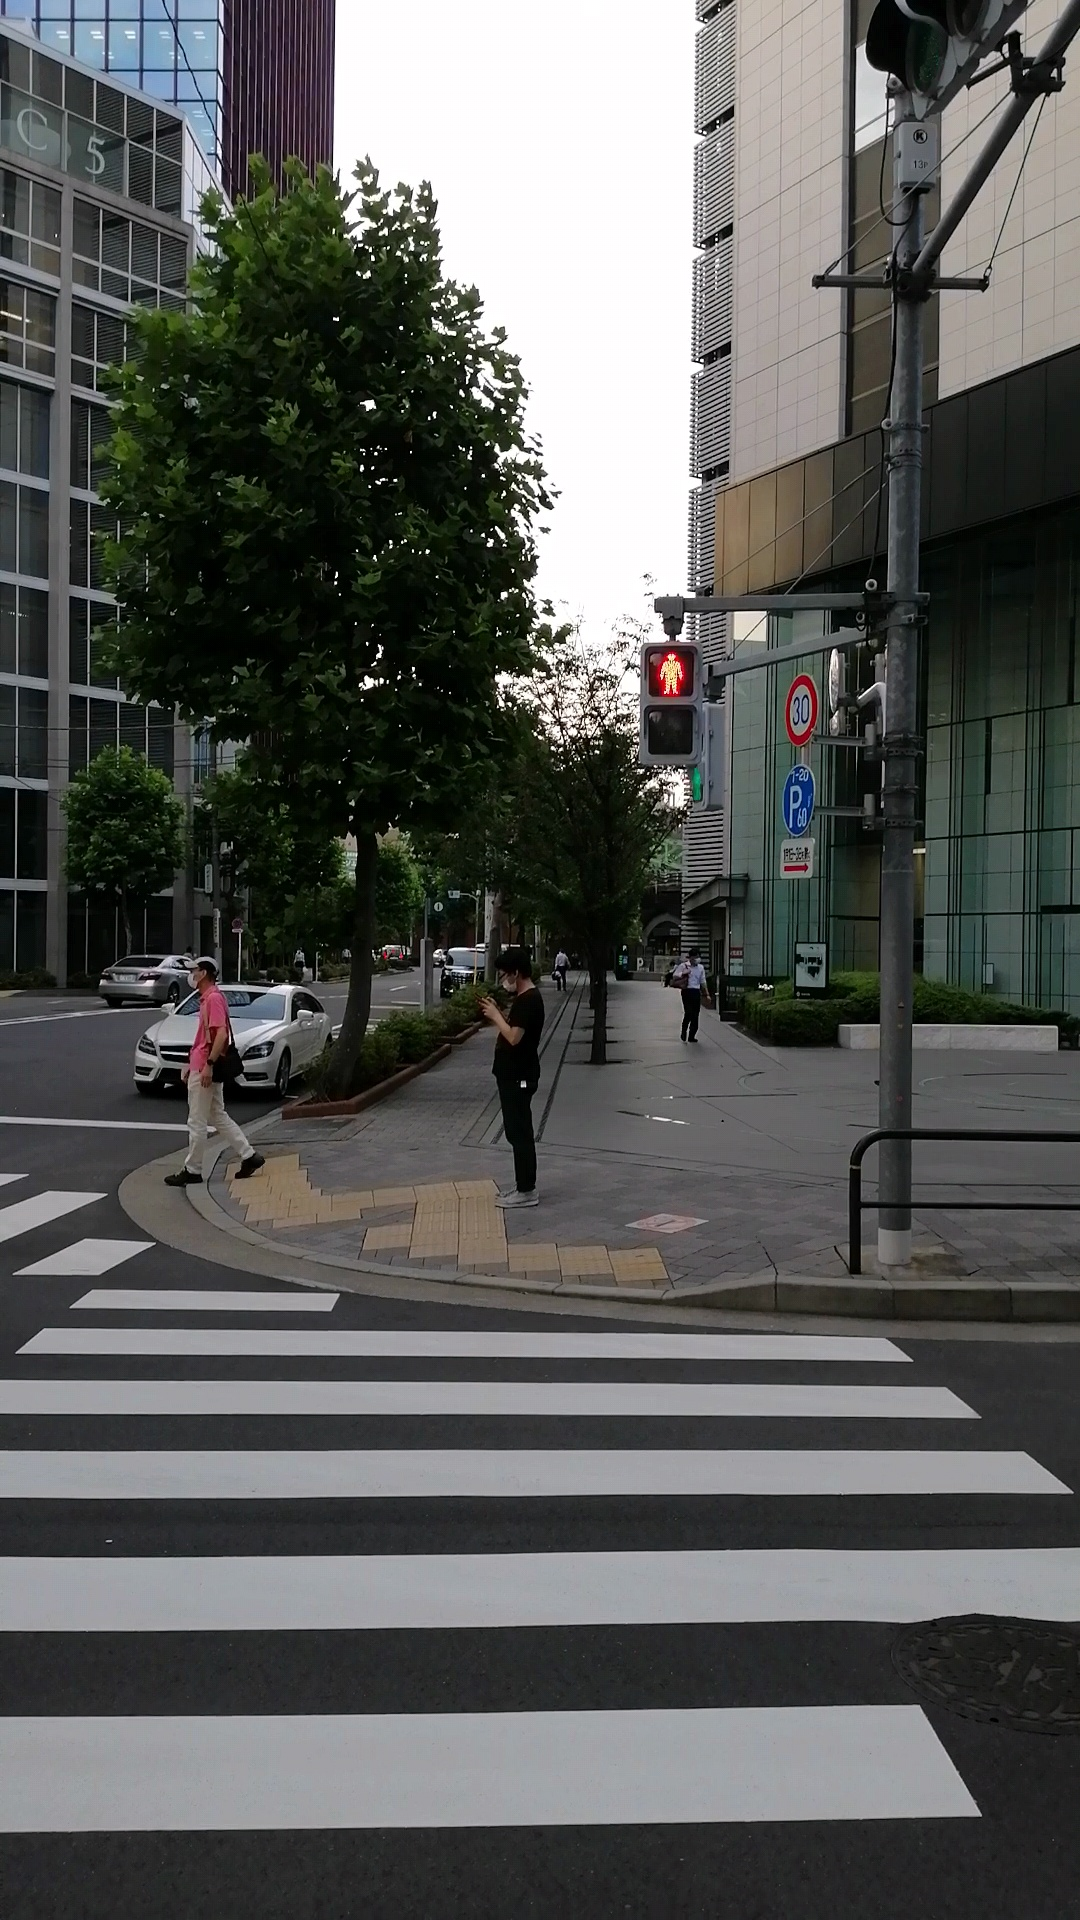red: (640, 642, 702, 764)
